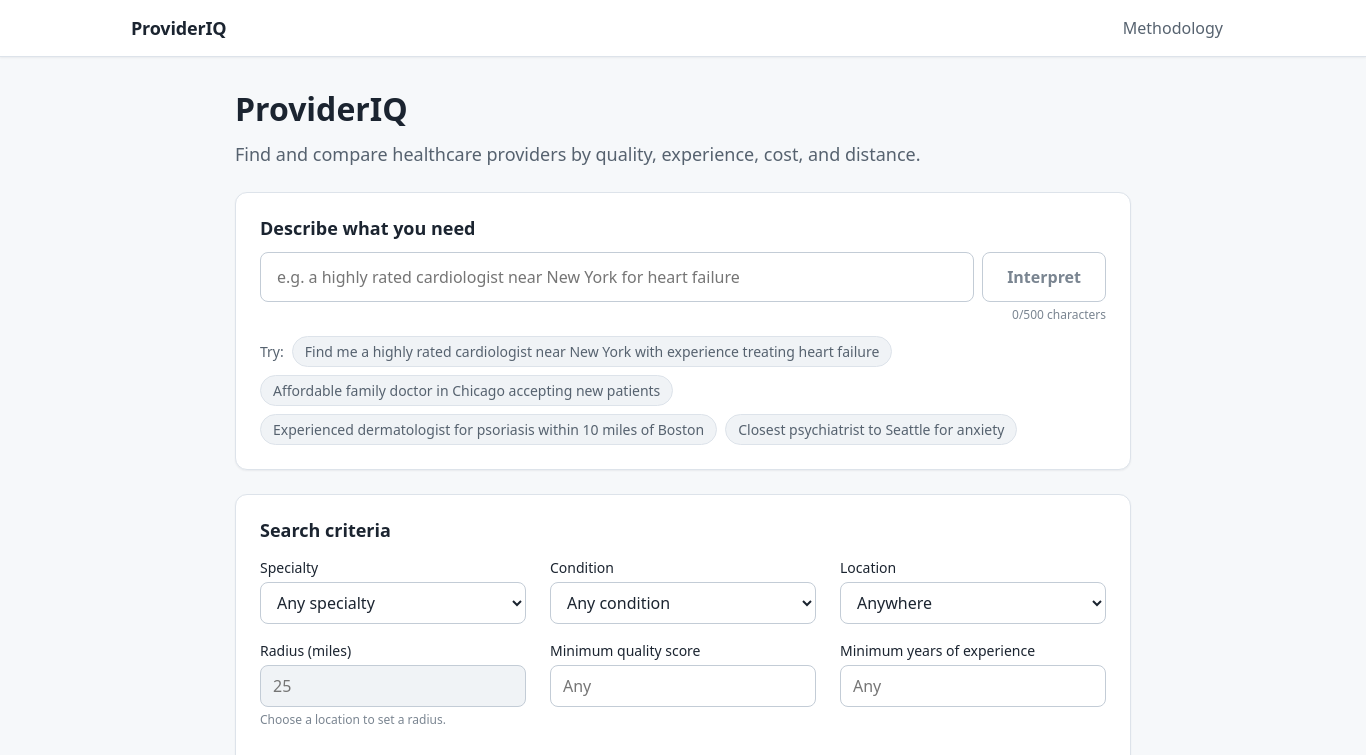
Test: crisis banner › doesn't appear for an ordinary query
The image size is (1366, 755).
Type "heart doctor in NYC" into the field named "Describe the provider you're looking for".
click(617, 276); type("heart doctor in NYC")  # box [260, 252, 974, 302]
Then press Enter
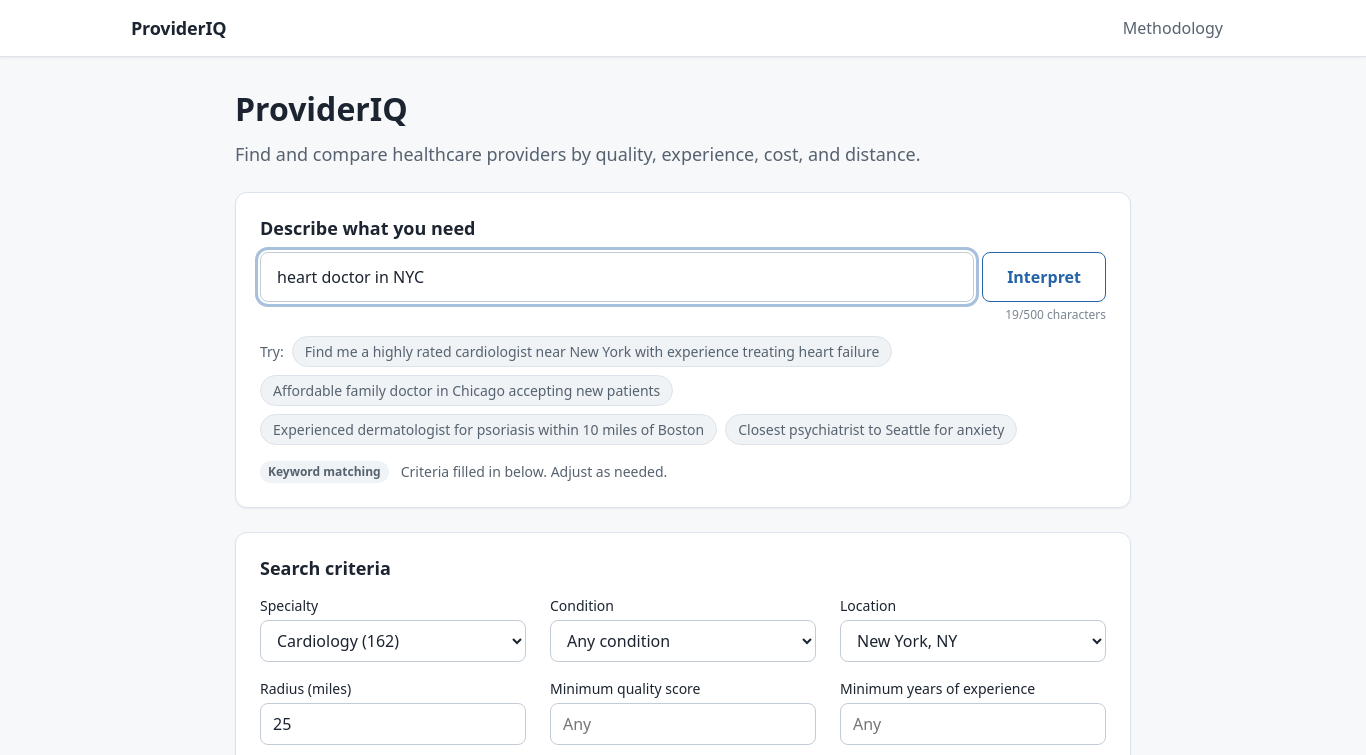
Result: the text "Keyword matching" is shown at [260, 460, 389, 482]
